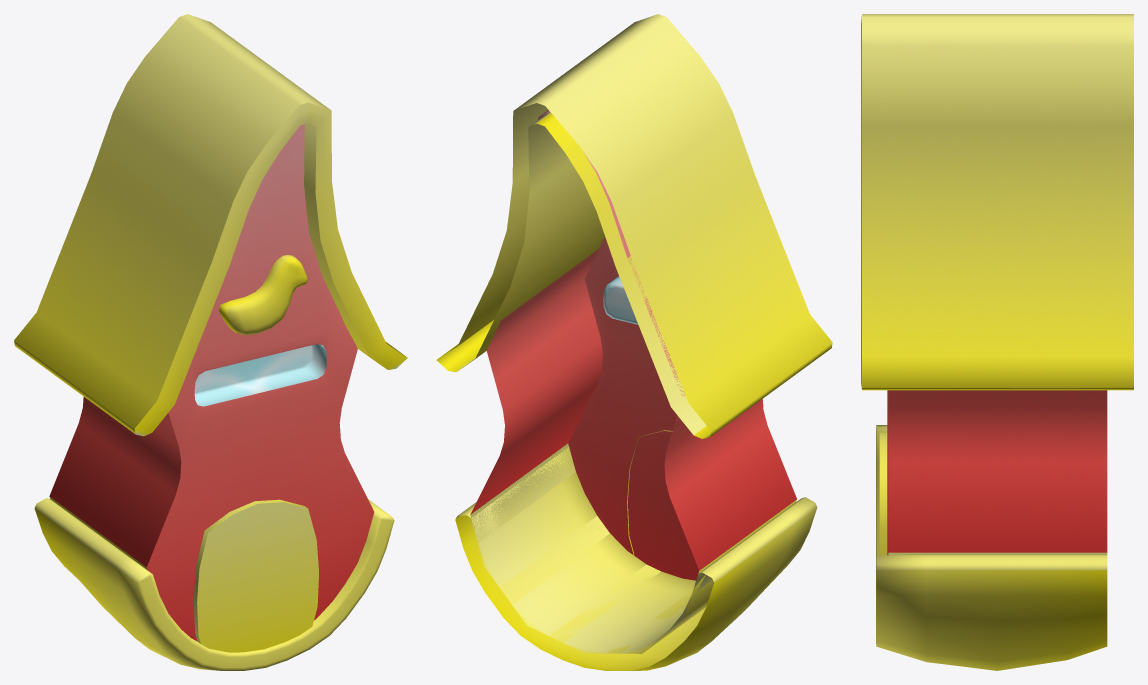
Rendered from Mailbox_D_red.fbx.
3 renders of one model, left to right at view 1: azimuth 30°, elevation 25°; view 2: azimuth 150°, elevation 25°; view 3: azimuth 270°, elevation 25°, orthographic. The views are drawn at different scales.
Parts seen in each view (by area): view 1: MailboxD_red; view 2: MailboxD_red; view 3: MailboxD_red.
Boxes of the visible parts, x1=… form: MailboxD_red: x1=14, y1=14, x2=407, y2=670; MailboxD_red: x1=436, y1=14, x2=832, y2=670; MailboxD_red: x1=861, y1=14, x2=1133, y2=670.
Bounding box in the file's own units: 1.2 × 0.9207 × 2.45.
